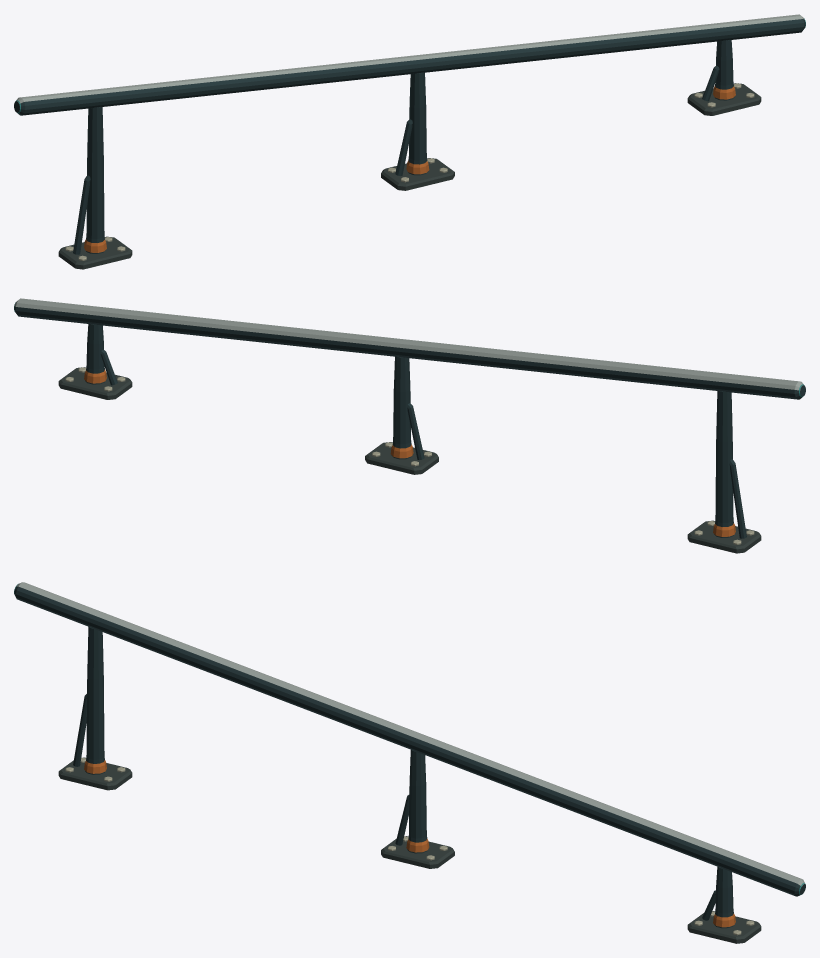
File: wsc-plan-009-grind-rail-down.glb
3 views of the same model, one above another, from view 1: azimuth 30°, elevation 25°; view 2: azimuth 150°, elevation 25°; view 3: azimuth 330°, elevation 25° (orthographic).
Parts seen in each view (by area): view 1: Continuous_grind_surface, Mounts_and_supports; view 2: Continuous_grind_surface, Mounts_and_supports; view 3: Continuous_grind_surface, Mounts_and_supports.
Part boxes in pixels (x1=…): Continuous_grind_surface: x1=14, y1=14, x2=805, y2=115; Mounts_and_supports: x1=58, y1=40, x2=761, y2=269; Continuous_grind_surface: x1=14, y1=298, x2=805, y2=399; Mounts_and_supports: x1=58, y1=324, x2=761, y2=553; Continuous_grind_surface: x1=14, y1=582, x2=805, y2=896; Mounts_and_supports: x1=58, y1=626, x2=761, y2=943.
Size of the model in its own units: 10.22 by 2.18 by 0.51.
